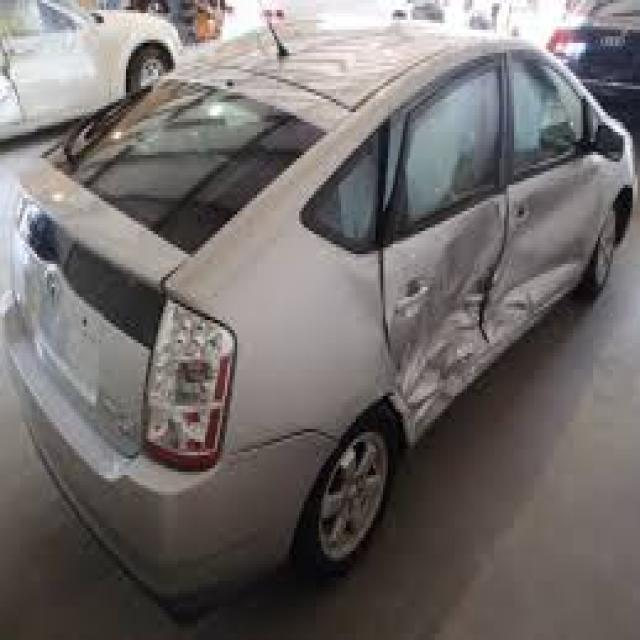minor: (370, 244, 551, 420)
